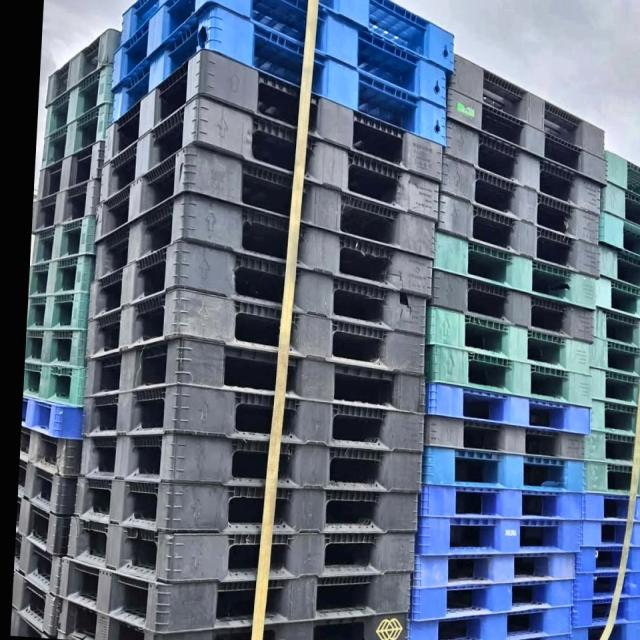non-igps: (108, 0, 450, 155), (101, 46, 446, 187), (96, 90, 443, 226), (91, 142, 439, 263), (90, 183, 437, 303), (83, 232, 430, 342), (80, 276, 430, 382), (80, 327, 430, 421), (54, 549, 415, 640), (62, 508, 420, 592), (77, 376, 430, 459), (77, 422, 428, 500), (210, 0, 450, 113), (69, 468, 423, 542), (440, 44, 608, 163), (441, 82, 611, 193), (435, 111, 604, 222), (436, 146, 602, 253), (432, 184, 604, 285), (429, 225, 600, 316), (422, 264, 598, 348), (423, 298, 594, 381), (420, 338, 596, 413), (316, 0, 457, 79), (422, 377, 595, 439), (418, 442, 590, 499), (420, 408, 588, 466), (411, 512, 584, 564), (412, 478, 590, 525), (404, 576, 577, 624), (407, 550, 578, 594), (402, 601, 577, 640), (44, 26, 124, 110), (42, 60, 116, 140), (38, 99, 116, 172), (5, 552, 65, 640), (54, 591, 160, 640), (13, 450, 82, 522), (8, 521, 66, 604), (12, 486, 75, 562), (36, 137, 108, 203), (30, 174, 103, 236), (16, 422, 86, 483), (28, 212, 98, 271), (26, 250, 99, 302), (17, 392, 88, 444), (20, 358, 89, 411), (22, 324, 90, 374), (23, 288, 93, 336), (592, 205, 640, 266), (567, 592, 640, 632), (585, 330, 640, 383), (578, 454, 640, 501), (586, 269, 640, 322), (578, 423, 640, 469), (591, 236, 640, 294), (584, 361, 640, 411), (587, 302, 640, 354), (584, 395, 640, 441), (570, 568, 640, 604), (577, 514, 640, 553), (579, 486, 640, 526), (571, 542, 640, 577), (6, 596, 60, 640), (597, 176, 640, 230), (600, 145, 640, 202), (566, 617, 640, 640)
